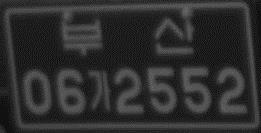0: (23, 67, 52, 116)
2: (213, 67, 249, 114), (113, 66, 144, 116)
5: (179, 65, 213, 114), (144, 65, 177, 115)
6: (55, 67, 87, 116)
가: (88, 69, 112, 111)
부산_D: (59, 16, 196, 56)
